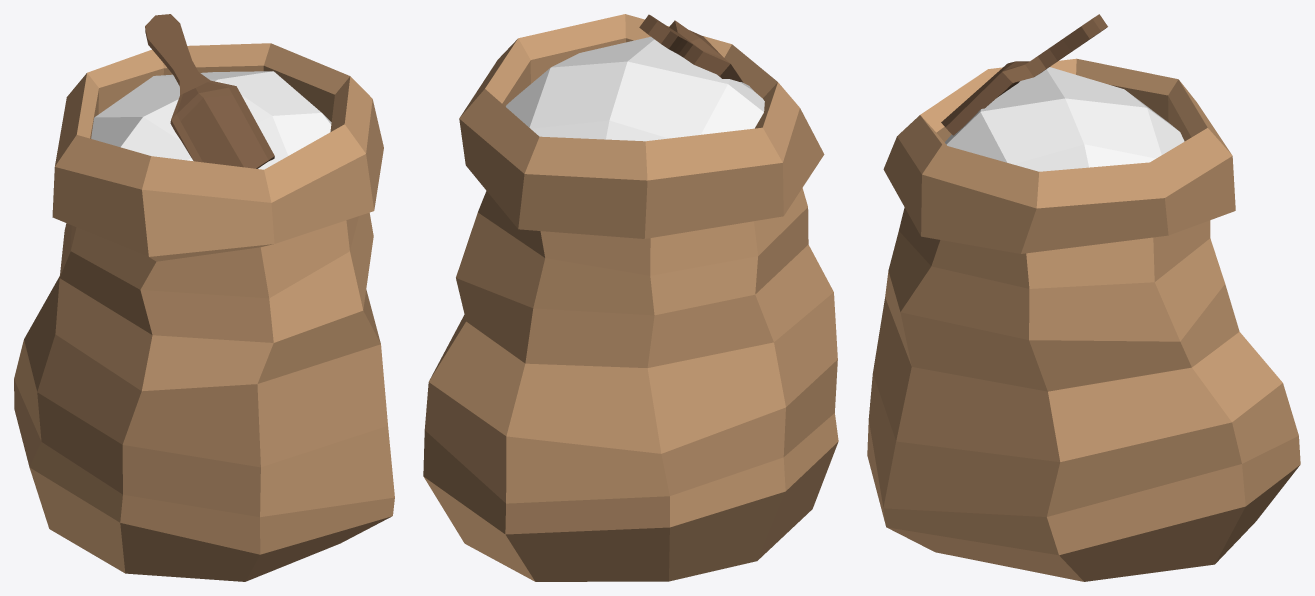
The model's file is SacksFlour_LowPoly.fbx.
The picture shows the model from 3 angles, left to right: view 1: azimuth 30°, elevation 25°; view 2: azimuth 150°, elevation 25°; view 3: azimuth 270°, elevation 25°; orthographic projection. The views are drawn at different scales.
Visible parts, largest first — view 1: Sack_01, Scoop_01; view 2: Sack_01, Scoop_01; view 3: Sack_01, Scoop_01.
Boxes of the visible parts, left/top/right/bottom form: Sack_01: left=14, top=43, right=394, bottom=581; Scoop_01: left=145, top=14, right=274, bottom=168; Sack_01: left=423, top=14, right=838, bottom=581; Scoop_01: left=639, top=14, right=743, bottom=82; Sack_01: left=867, top=58, right=1300, bottom=581; Scoop_01: left=941, top=14, right=1107, bottom=135.
Bounding box in the file's own units: 0.8261 × 1.2 × 0.9602.
Materials: 1 (1 with a texture image).
